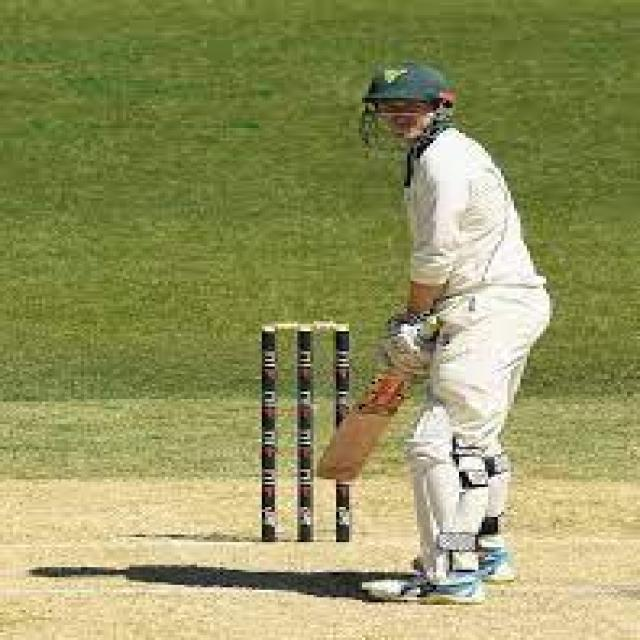bat: (320, 363, 425, 481)
toe: (310, 456, 358, 482)
